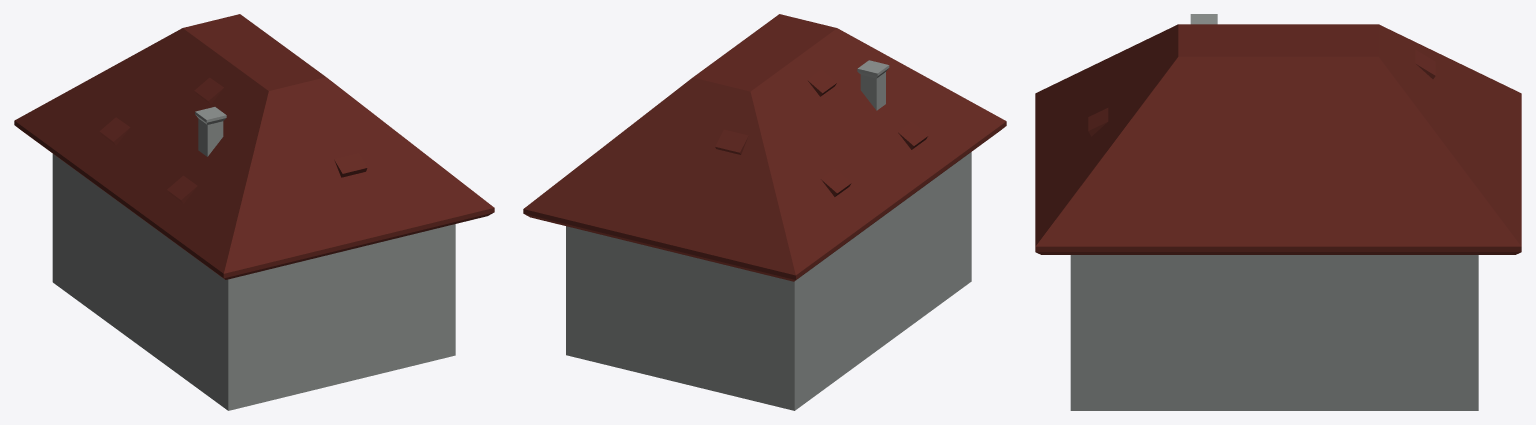
The model's file is house1.fbx.
The picture shows the model from 3 angles, left to right: view 1: azimuth 30°, elevation 25°; view 2: azimuth 150°, elevation 25°; view 3: azimuth 270°, elevation 25°; orthographic projection. The views are drawn at different scales.
Parts seen in each view (by area): view 1: Whole House; view 2: Whole House; view 3: Whole House.
Boxes of the visible parts, bbox=[...] form: Whole House: bbox=[14, 14, 494, 410]; Whole House: bbox=[523, 14, 1006, 410]; Whole House: bbox=[1035, 14, 1521, 410].
Size of the model in its own units: 854 by 797 by 1144.
